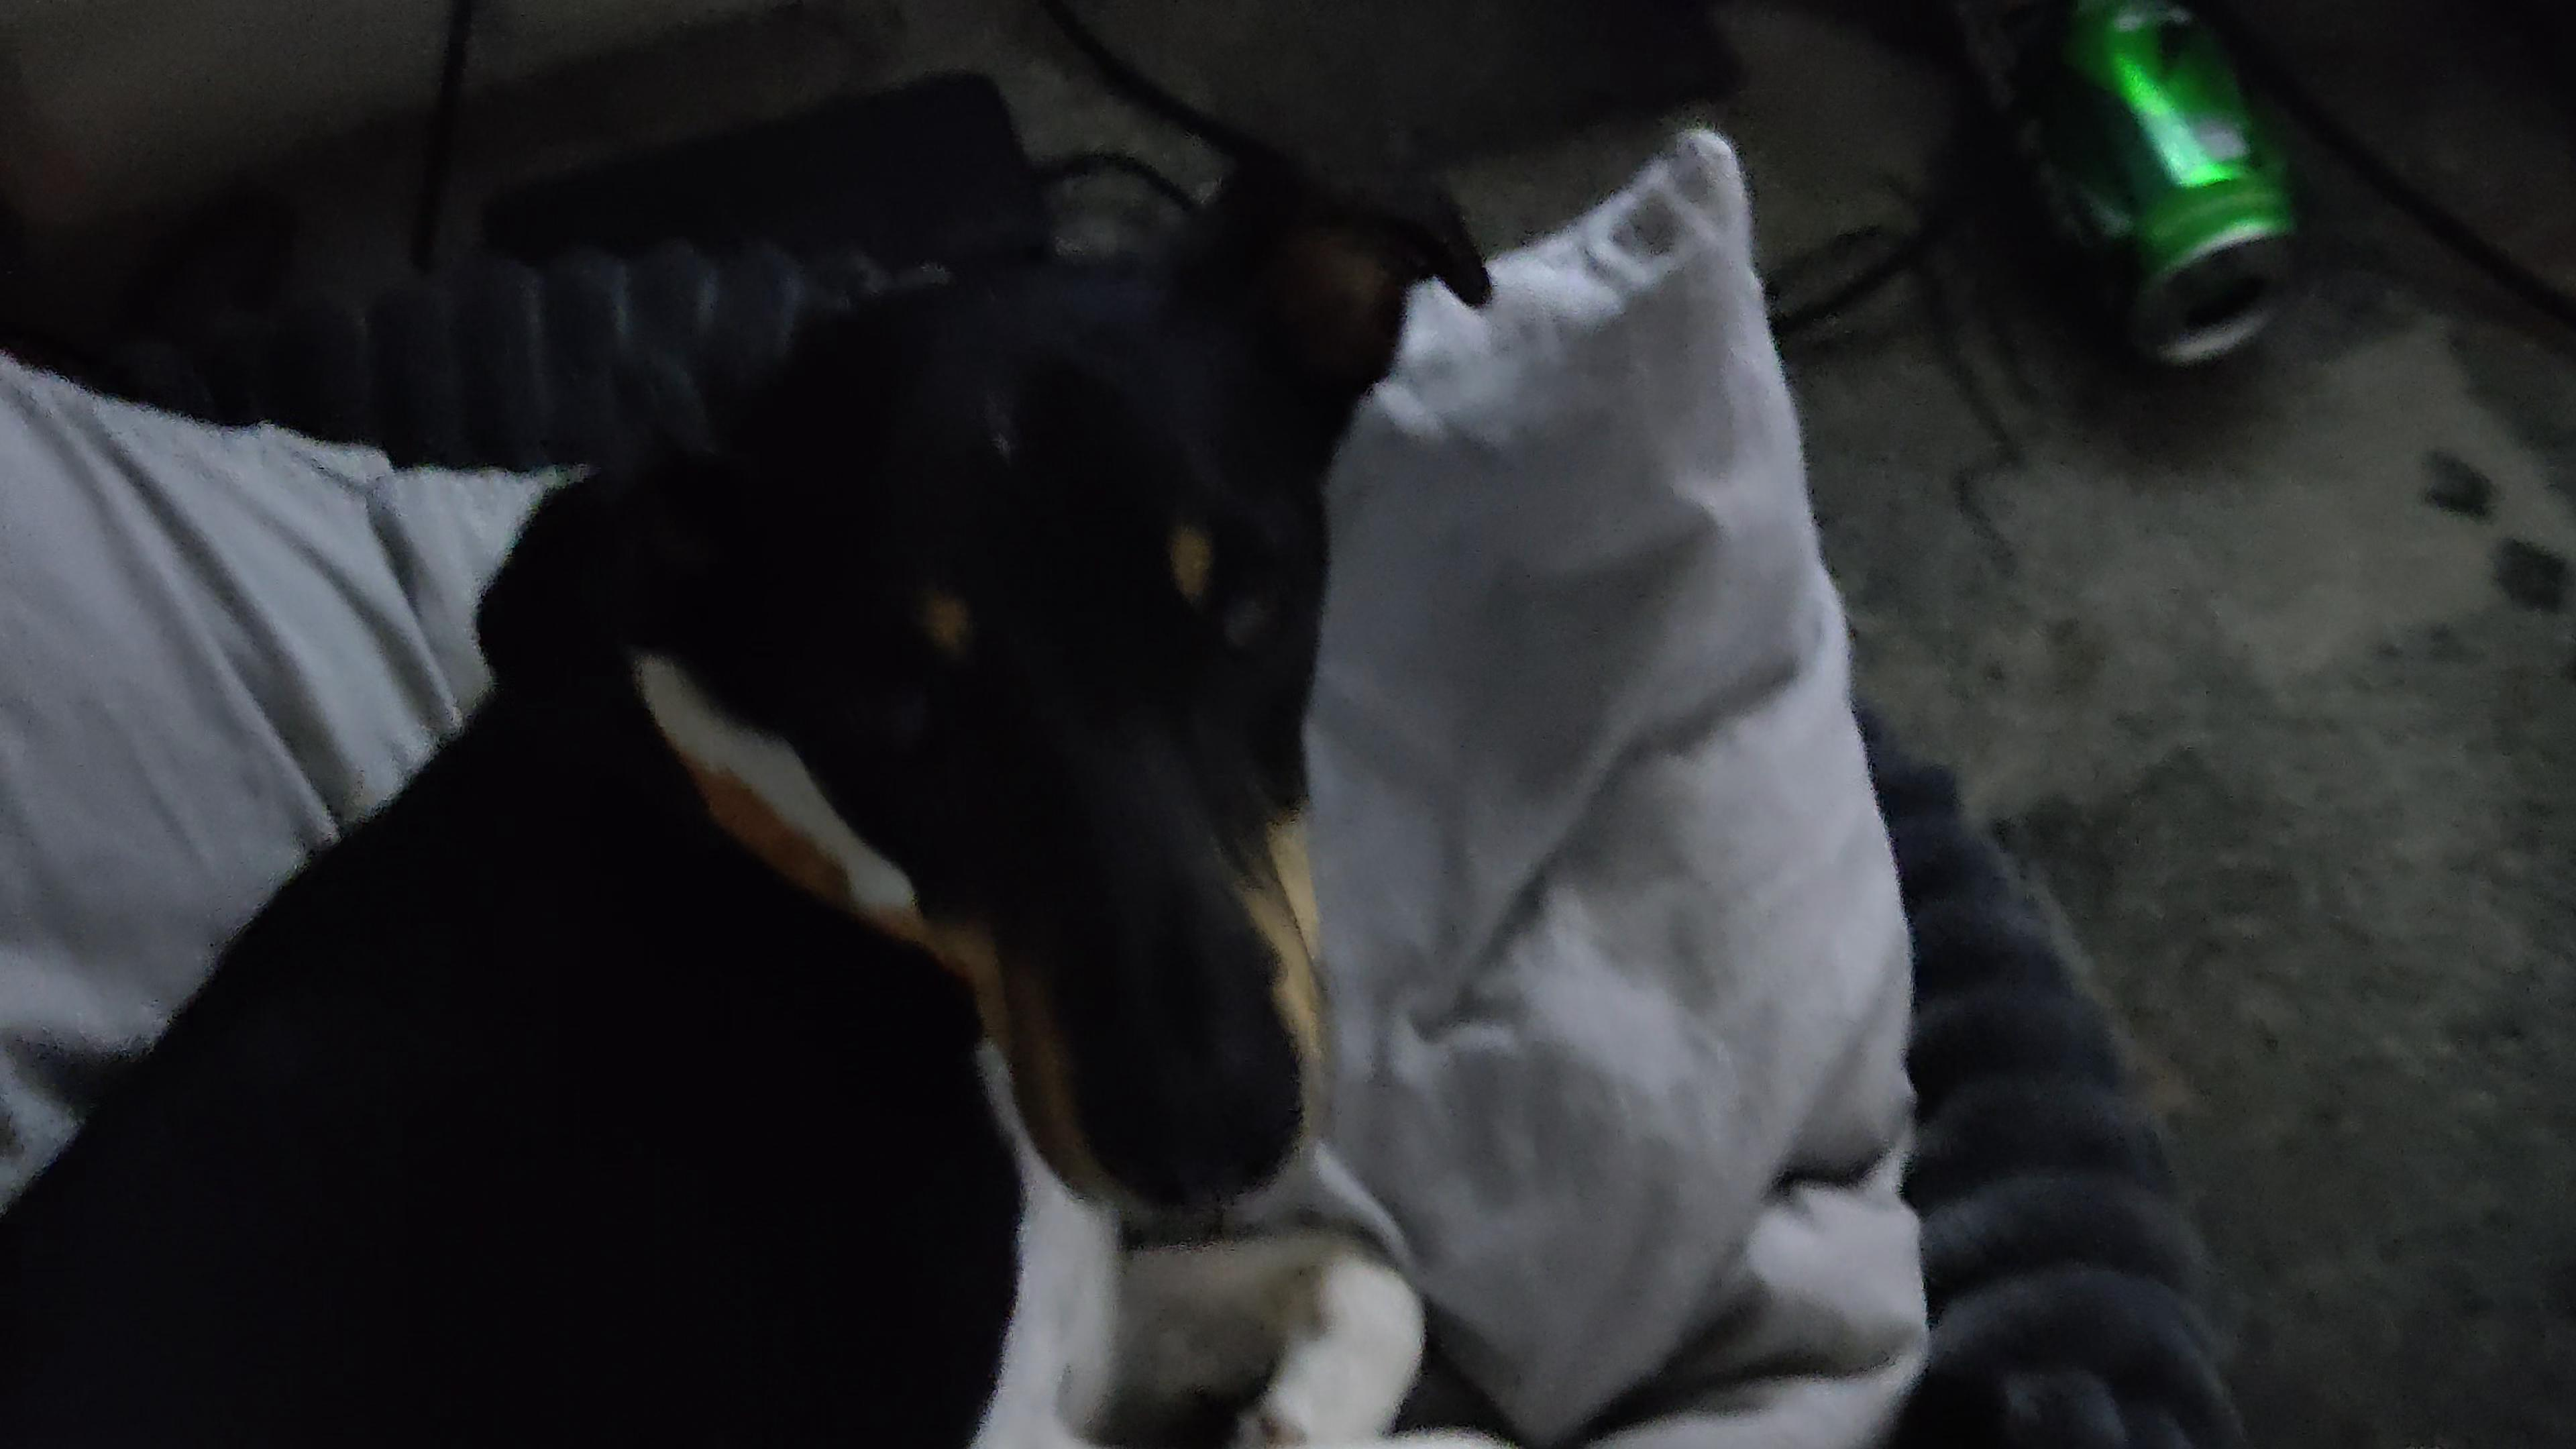Dog: (0, 106, 1614, 1449)
